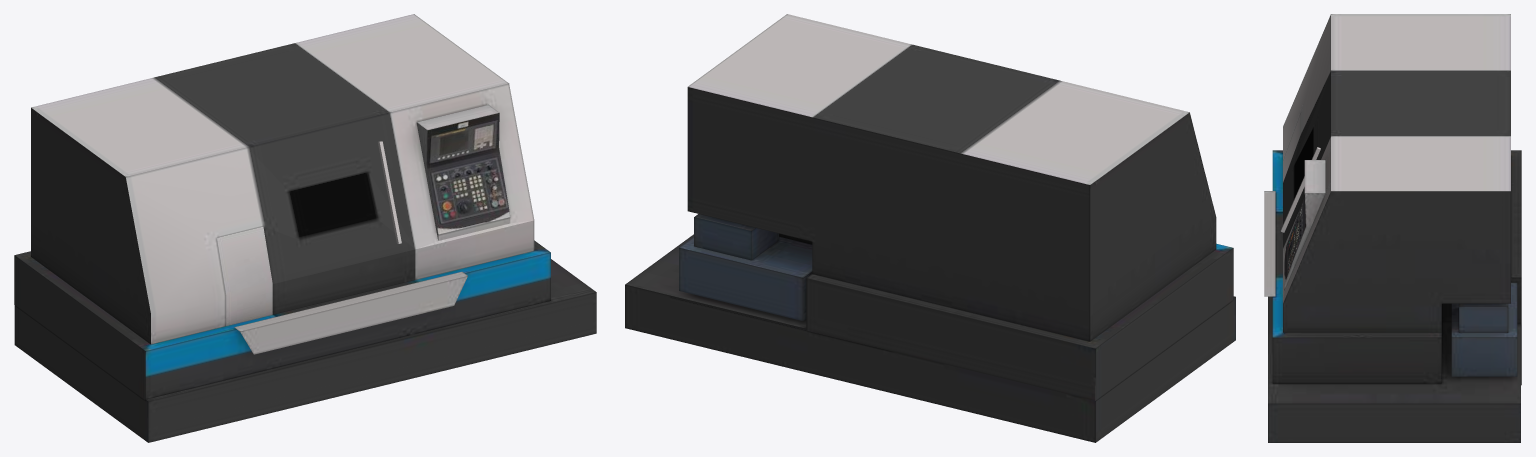
3 views of the same model, side by side, from view 1: azimuth 30°, elevation 25°; view 2: azimuth 150°, elevation 25°; view 3: azimuth 270°, elevation 25° (orthographic). The views are drawn at different scales.
Parts seen in each view (by area): view 1: NL201HA_0; view 2: NL201HA_0; view 3: NL201HA_0.
Part boxes in pixels (<box>): NL201HA_0: <box>14,14,596,442</box>; NL201HA_0: <box>625,14,1235,442</box>; NL201HA_0: <box>1264,14,1521,442</box>.
Bounding box in the file's own units: 1.31 × 0.6663 × 0.685.
Materials: 1 (1 with a texture image).
